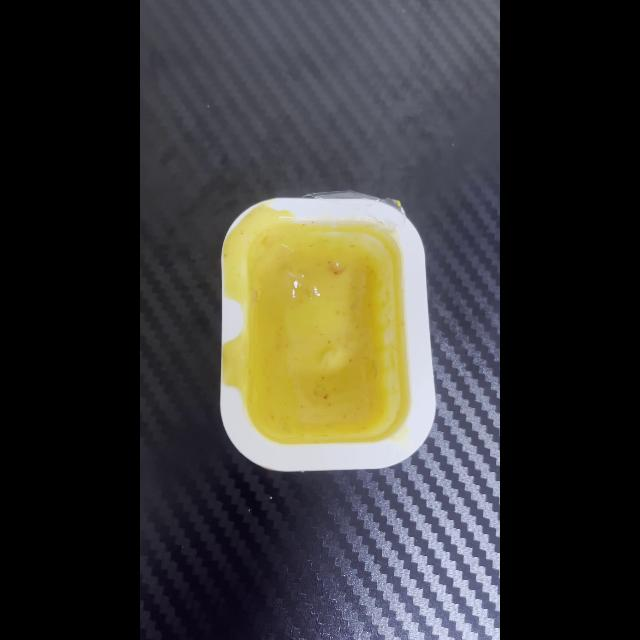dirty: (225, 199, 433, 469)
